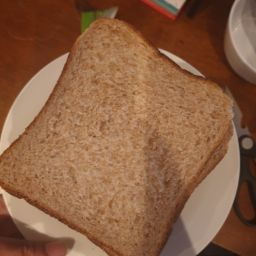Breads: (35, 15, 236, 256), (1, 107, 142, 256)
